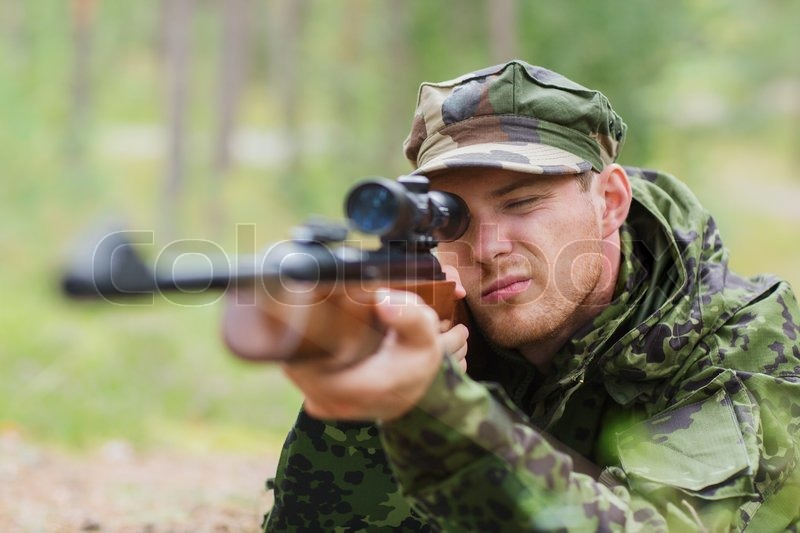Gun: (89, 181, 457, 318)
